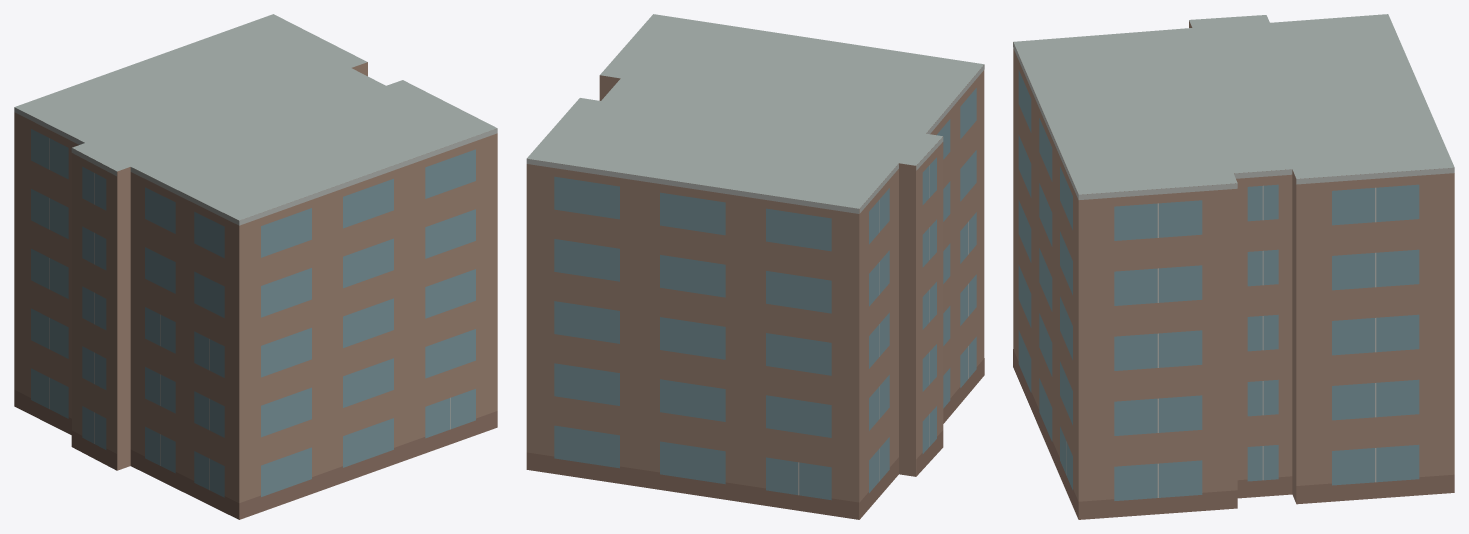
Rendered from survey-upis-33041935.glb.
The picture shows the model from 3 angles, left to right: view 1: azimuth 30°, elevation 25°; view 2: azimuth 150°, elevation 25°; view 3: azimuth 270°, elevation 25°; orthographic projection. The views are drawn at different scales.
Parts seen in each view (by area): view 1: survey-upis-33041935.tmp; view 2: survey-upis-33041935.tmp; view 3: survey-upis-33041935.tmp.
Part boxes in pixels (left/top/right/bottom): survey-upis-33041935.tmp: left=14, top=14, right=497, bottom=519; survey-upis-33041935.tmp: left=526, top=14, right=984, bottom=519; survey-upis-33041935.tmp: left=1013, top=14, right=1454, bottom=519.
Size of the model in its own units: 17.29 by 14.5 by 17.86.
